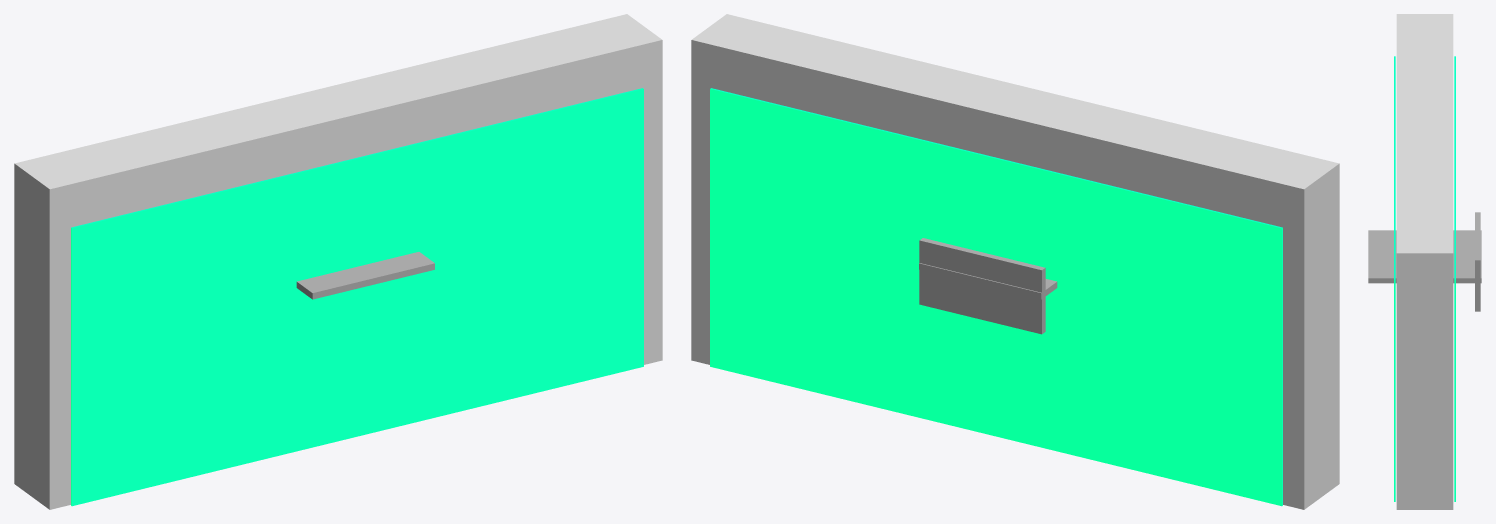
Rendered from exit_sign.glb.
3 renders of one model, left to right at view 1: azimuth 30°, elevation 25°; view 2: azimuth 150°, elevation 25°; view 3: azimuth 270°, elevation 25°, orthographic. The views are drawn at different scales.
Visible parts, largest first — view 1: Exit_Sign; view 2: Exit_Sign; view 3: Exit_Sign.
Part boxes in pixels (x1=…): Exit_Sign: x1=14, y1=14, x2=662, y2=509; Exit_Sign: x1=691, y1=14, x2=1339, y2=509; Exit_Sign: x1=1368, y1=14, x2=1481, y2=509.
Size of the model in its own units: 0.3 by 0.15 by 0.06.
